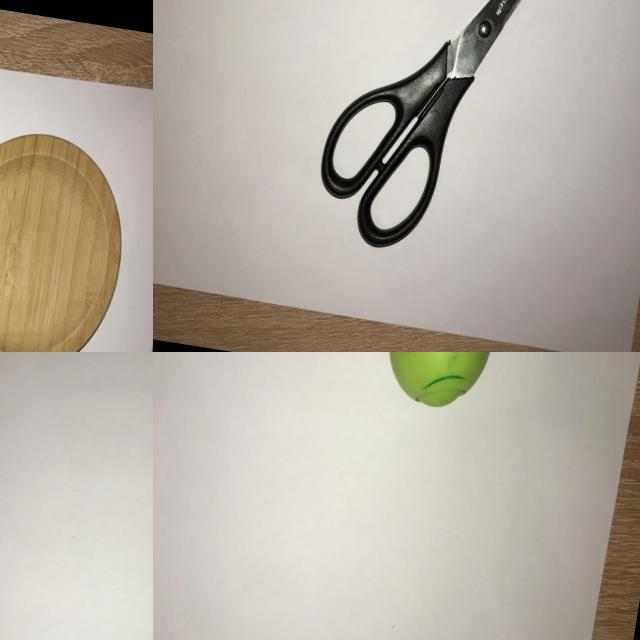cup_holder: (0, 112, 146, 352)
scissors: (304, 0, 595, 280)
toy: (371, 352, 508, 421)
